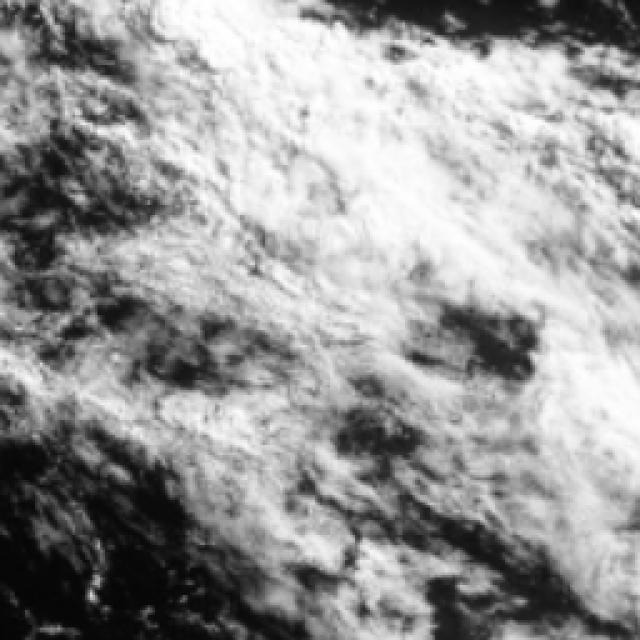CB: (238, 64, 426, 235), (362, 140, 524, 277), (161, 0, 323, 128), (539, 299, 640, 488)
